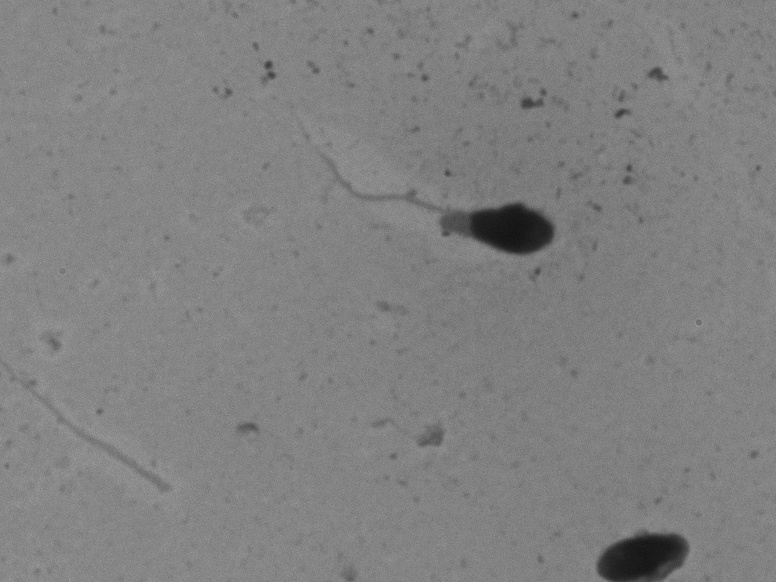Abnormal: (277, 90, 587, 286)
